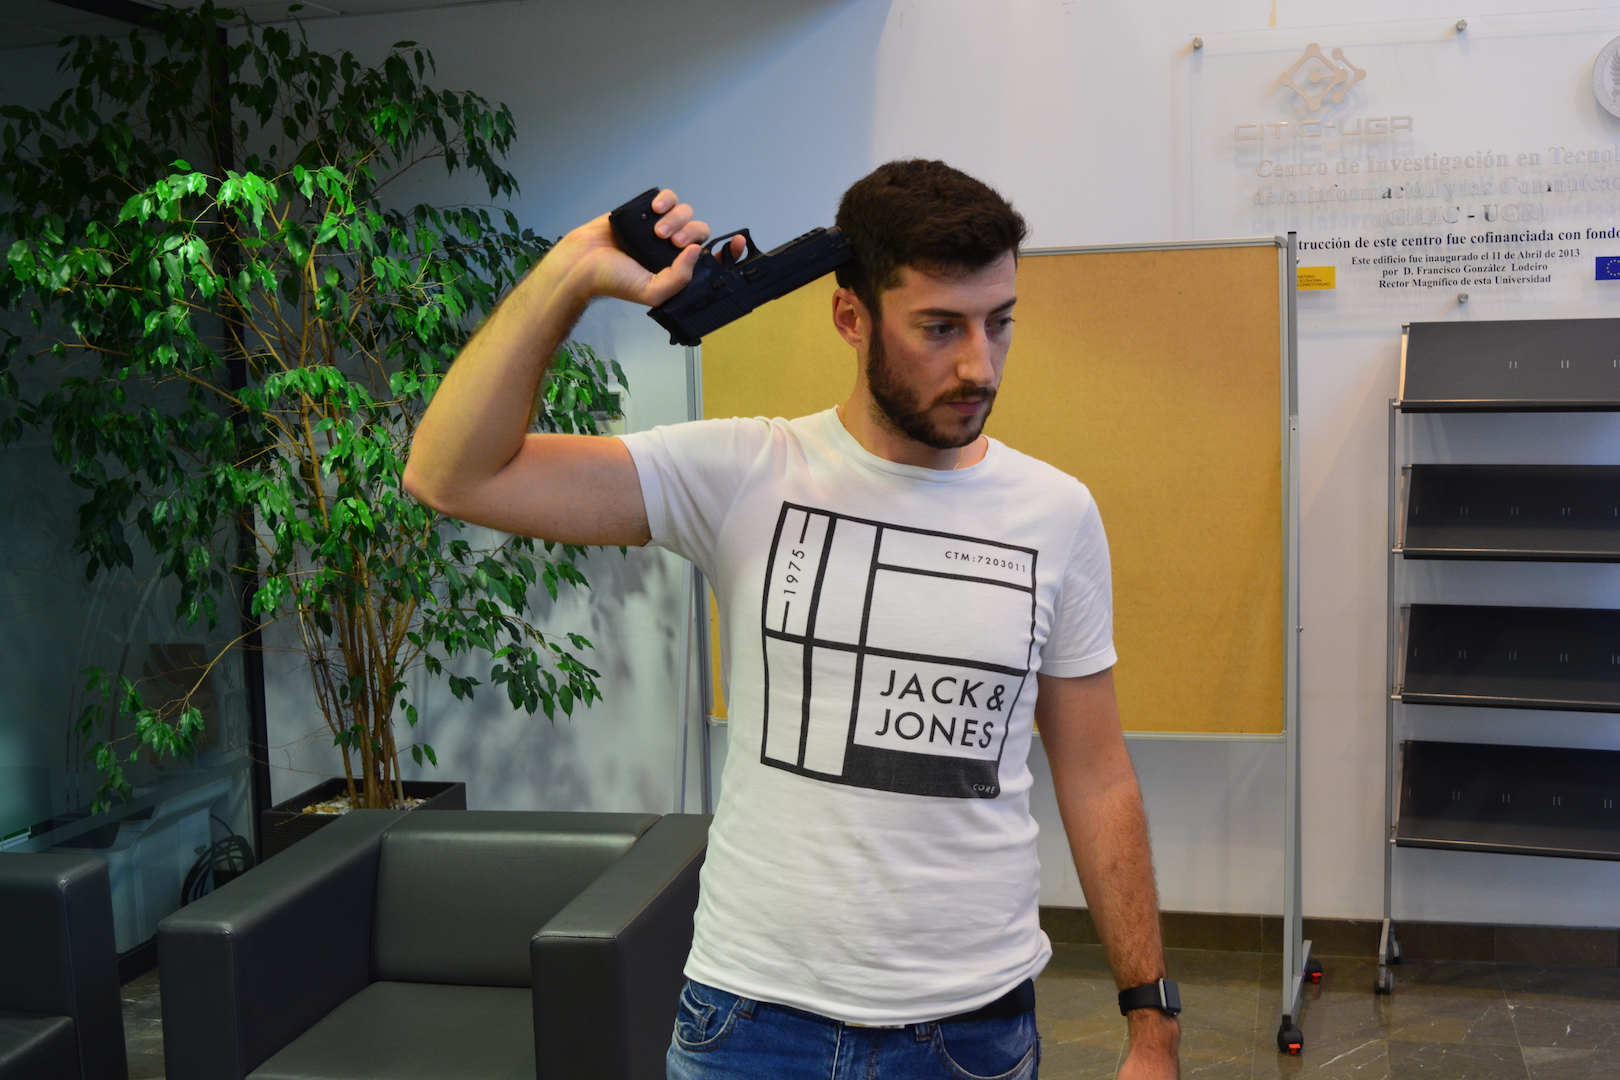pistol: (609, 187, 853, 347)
